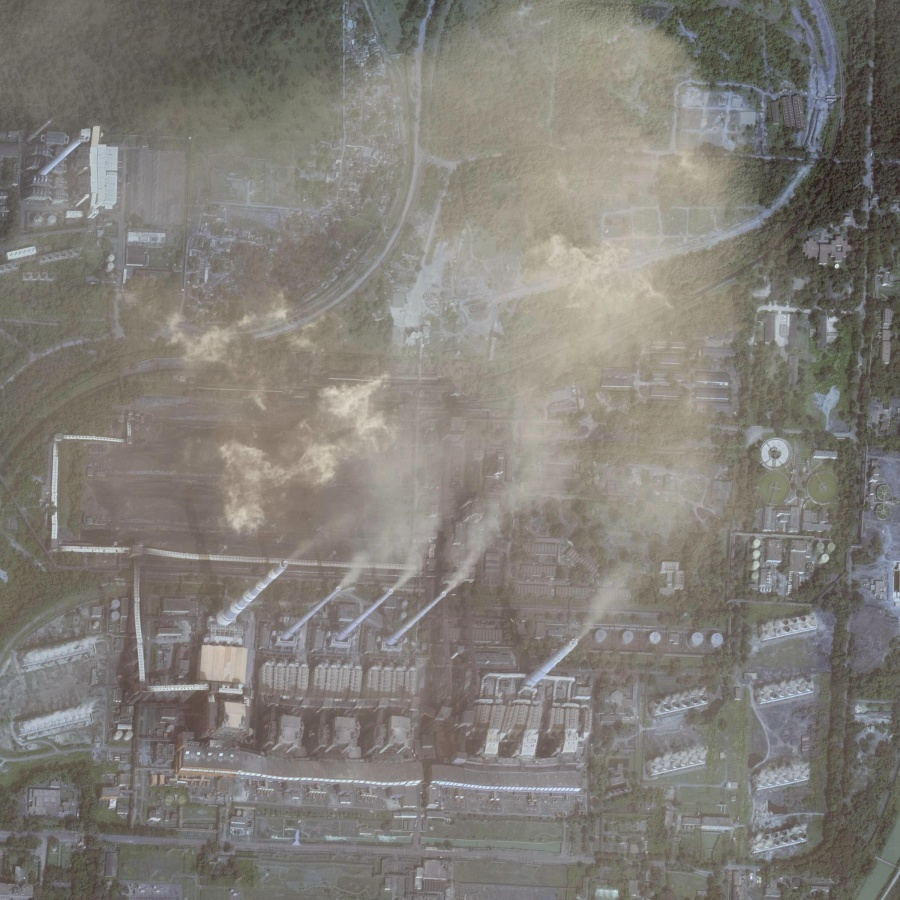PowerPlant: (56, 327, 617, 803)
